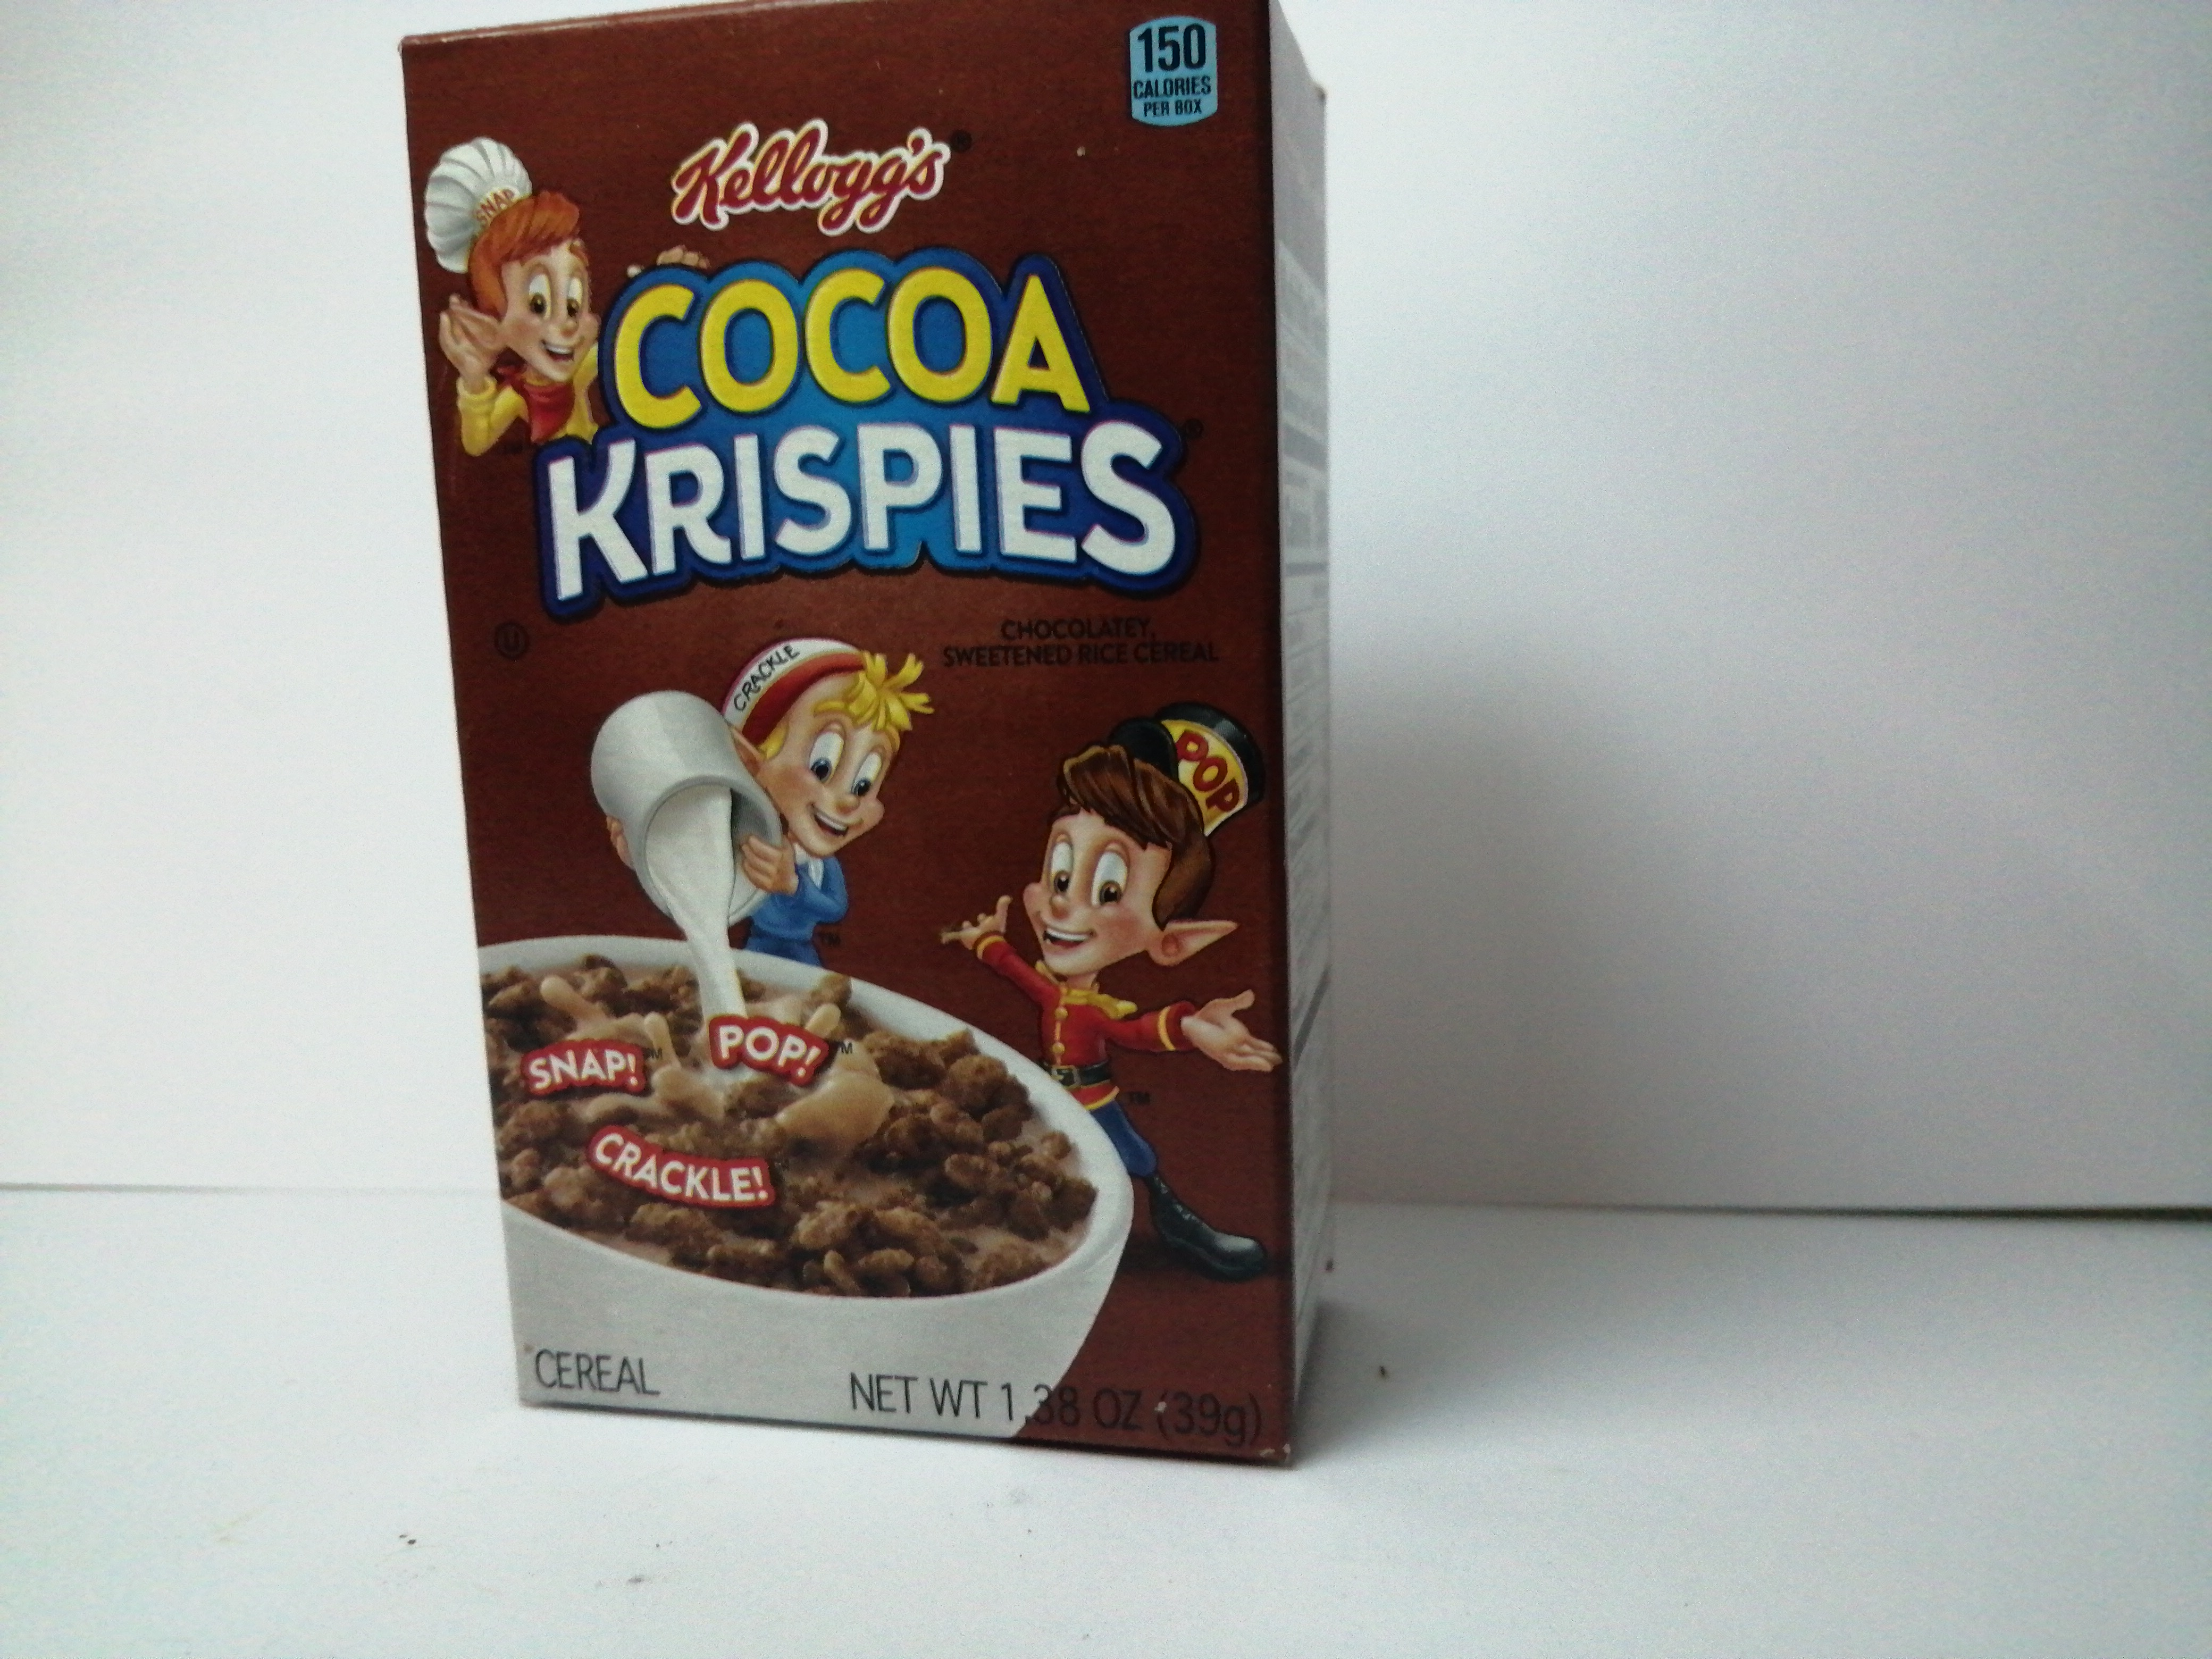cereal chocolate: (361, 2, 1392, 1476)
